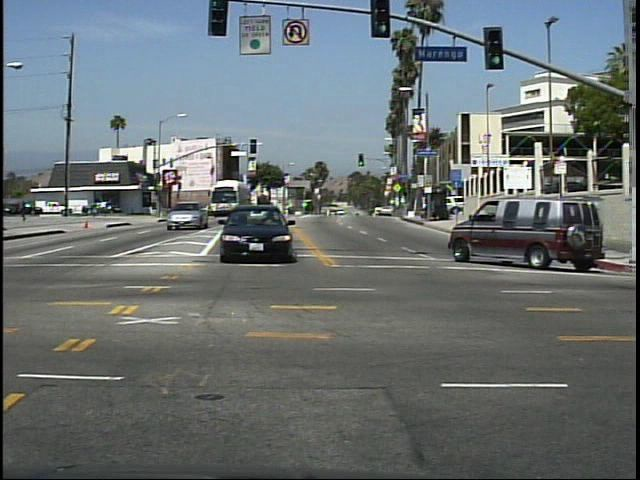person: (16, 196, 33, 225)
